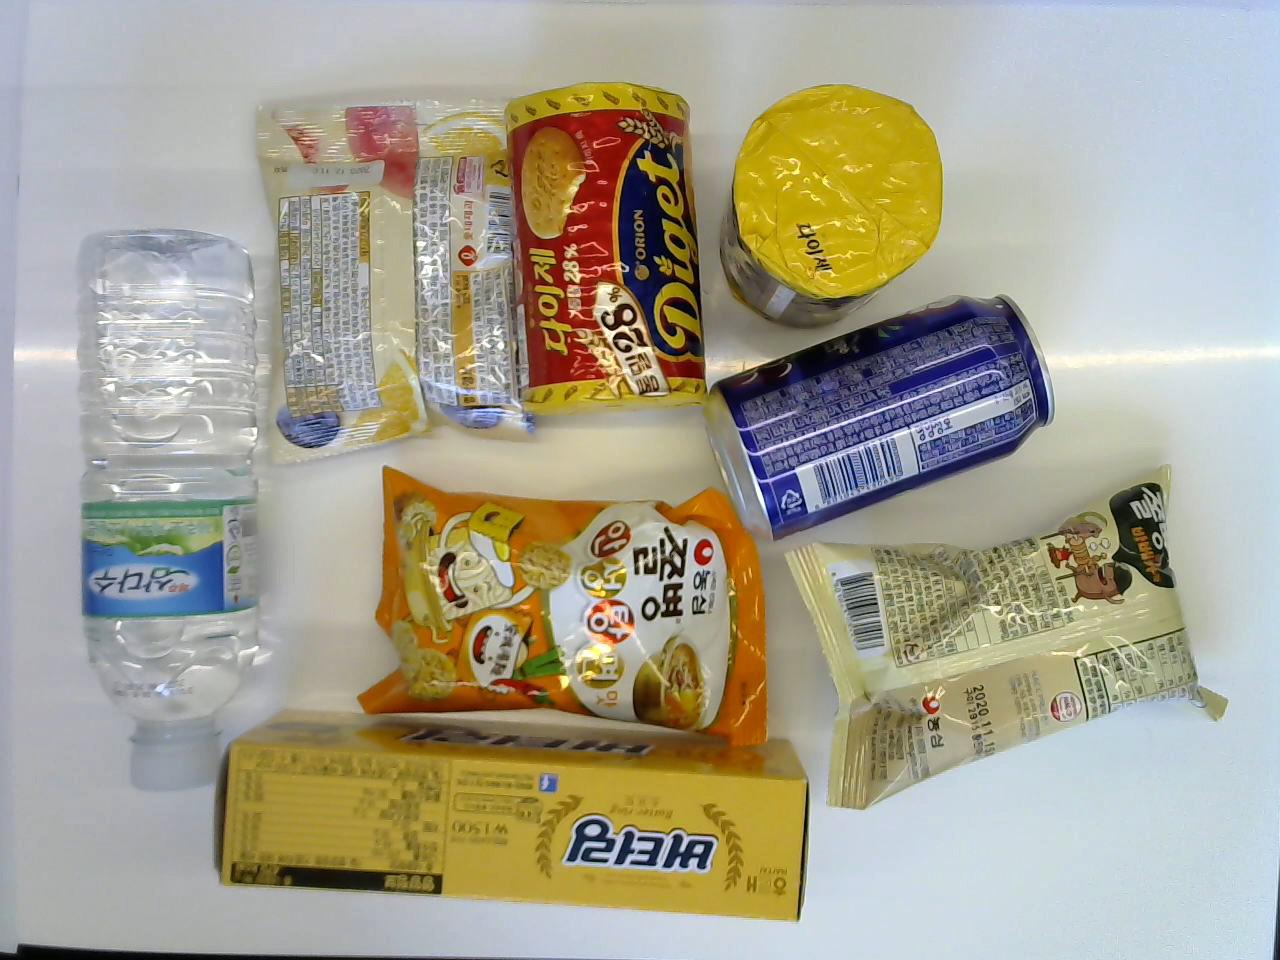buttering: (216, 703, 817, 925)
diget_choco: (722, 74, 945, 334)
diget_ori: (501, 82, 711, 422)
gumi_gumi: (246, 94, 536, 460)
jjolbyung_noodle: (371, 460, 769, 747)
jjolbyung_ori: (779, 462, 1229, 809)
samdasu: (73, 225, 264, 800)
welchs: (697, 290, 1057, 539)
